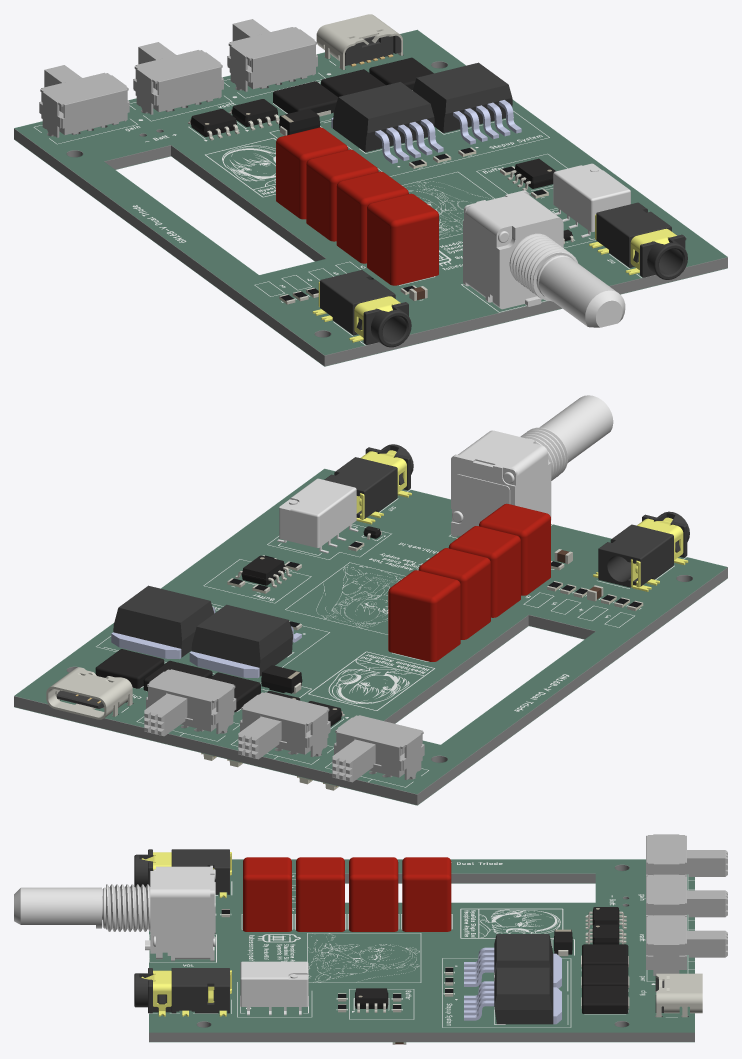
File: tubese.glb
3 renders of one model, top to bottom at view 1: azimuth 30°, elevation 25°; view 2: azimuth 150°, elevation 25°; view 3: azimuth 270°, elevation 25°, orthographic. The views are drawn at different scales.
Visible parts, largest first — view 1: =>[0:1:1:28], =>[0:1:1:26], VOL, NAUO1 (×2), VR1, C26, VR2, pwr, vsett, gain, =>[0:1:1:24], K1 (+13 smaller); view 2: =>[0:1:1:28], =>[0:1:1:26], VOL, NAUO1 (×2), C24, VR1, VR2, =>[0:1:1:24], gain, vsett, pwr, K1 (+10 smaller); view 3: =>[0:1:1:26], =>[0:1:1:28], VOL, =>[0:1:1:24], NAUO1 (×2), VR2, C24, C23, C25, C26, pwr, K1 (+13 smaller).
Boxes of the visible parts, <box> form: =>[0:1:1:28]: <box>14,30,727,366</box>; =>[0:1:1:26]: <box>14,29,727,355</box>; VOL: <box>463,190,625,327</box>; NAUO1 (×2): <box>320,202,687,347</box>; VR1: <box>331,82,443,163</box>; C26: <box>367,193,438,285</box>; VR2: <box>413,62,521,144</box>; pwr: <box>227,19,317,91</box>; vsett: <box>133,42,223,114</box>; gain: <box>39,65,129,137</box>; =>[0:1:1:24]: <box>33,60,641,345</box>; K1: <box>553,163,630,237</box>; =>[0:1:1:28]: <box>14,469,727,805</box>; =>[0:1:1:26]: <box>14,468,727,794</box>; VOL: <box>451,395,613,536</box>; NAUO1 (×2): <box>324,444,689,587</box>; C24: <box>388,570,460,661</box>; VR1: <box>189,604,301,678</box>; VR2: <box>111,585,215,659</box>; =>[0:1:1:24]: <box>96,489,686,787</box>; gain: <box>332,715,424,782</box>; vsett: <box>238,692,330,759</box>; pwr: <box>144,669,236,736</box>; K1: <box>277,478,358,553</box>; =>[0:1:1:26]: <box>149,859,694,1032</box>; =>[0:1:1:28]: <box>149,860,694,1041</box>; VOL: <box>14,865,215,961</box>; =>[0:1:1:24]: <box>149,862,694,1027</box>; NAUO1 (×2): <box>134,849,229,1013</box>; VR2: <box>464,967,561,1024</box>; C24: <box>402,857,451,931</box>; C23: <box>349,857,398,931</box>; C25: <box>296,857,344,931</box>; C26: <box>243,857,291,931</box>; pwr: <box>646,915,727,975</box>; K1: <box>240,961,308,1015</box>.
Bounding box in the file's own units: 0.06 × 0.0149 × 0.1046.
